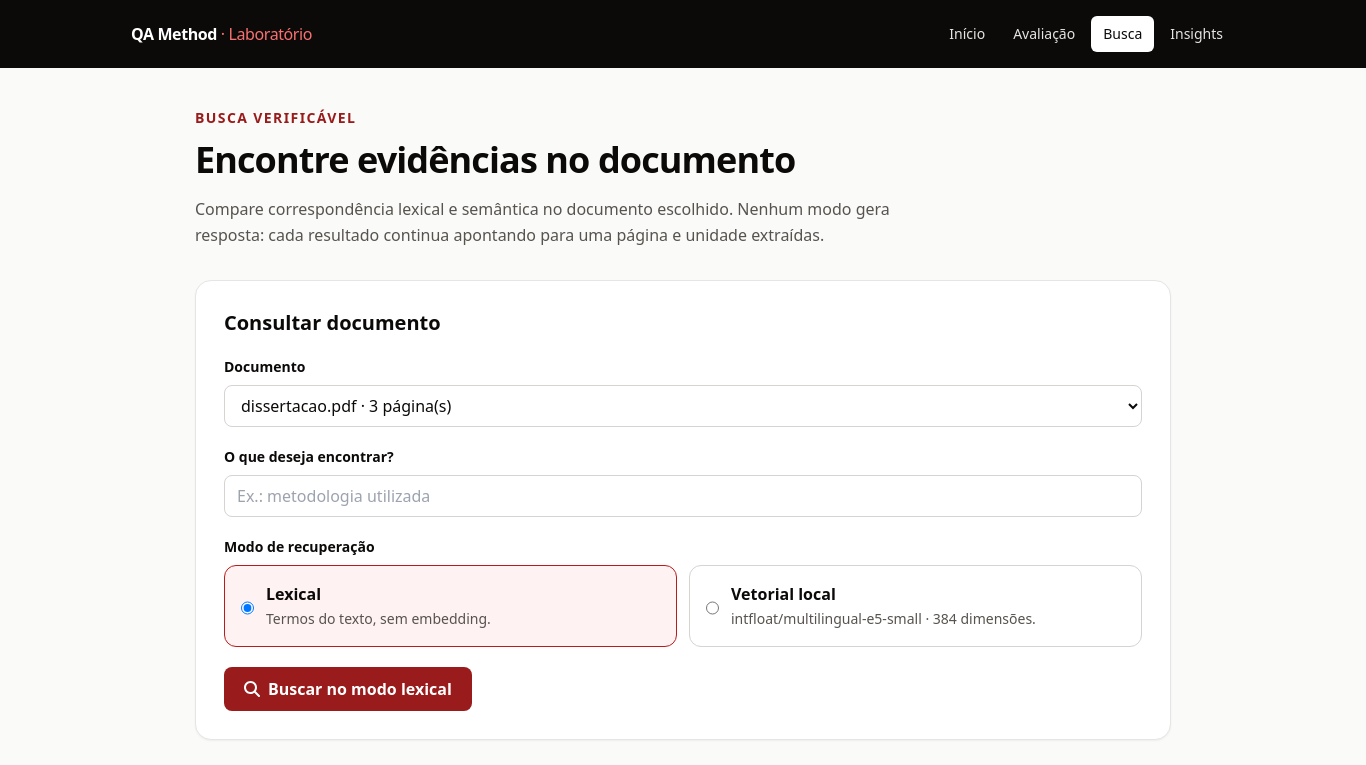
Scenario: Search › mantém resultados lexical e vetorial para comparação
The image size is (1366, 765).
Type "abordagem interpretativa" into the search field labelled "O que deseja encontrar?" at [683, 496], box x1=224 y1=475 x2=1142 y2=517
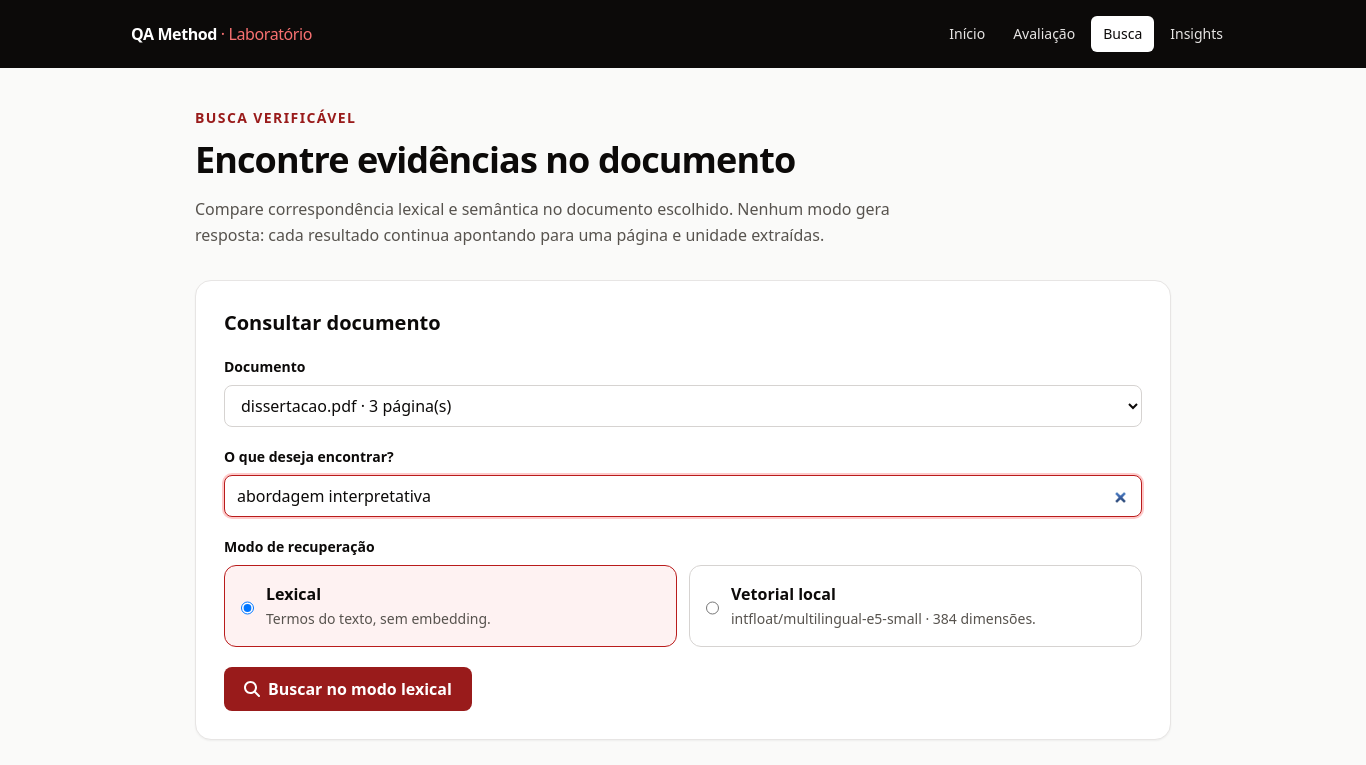
Click the button "Buscar no modo lexical" at [348, 689], box x1=224 y1=667 x2=472 y2=711
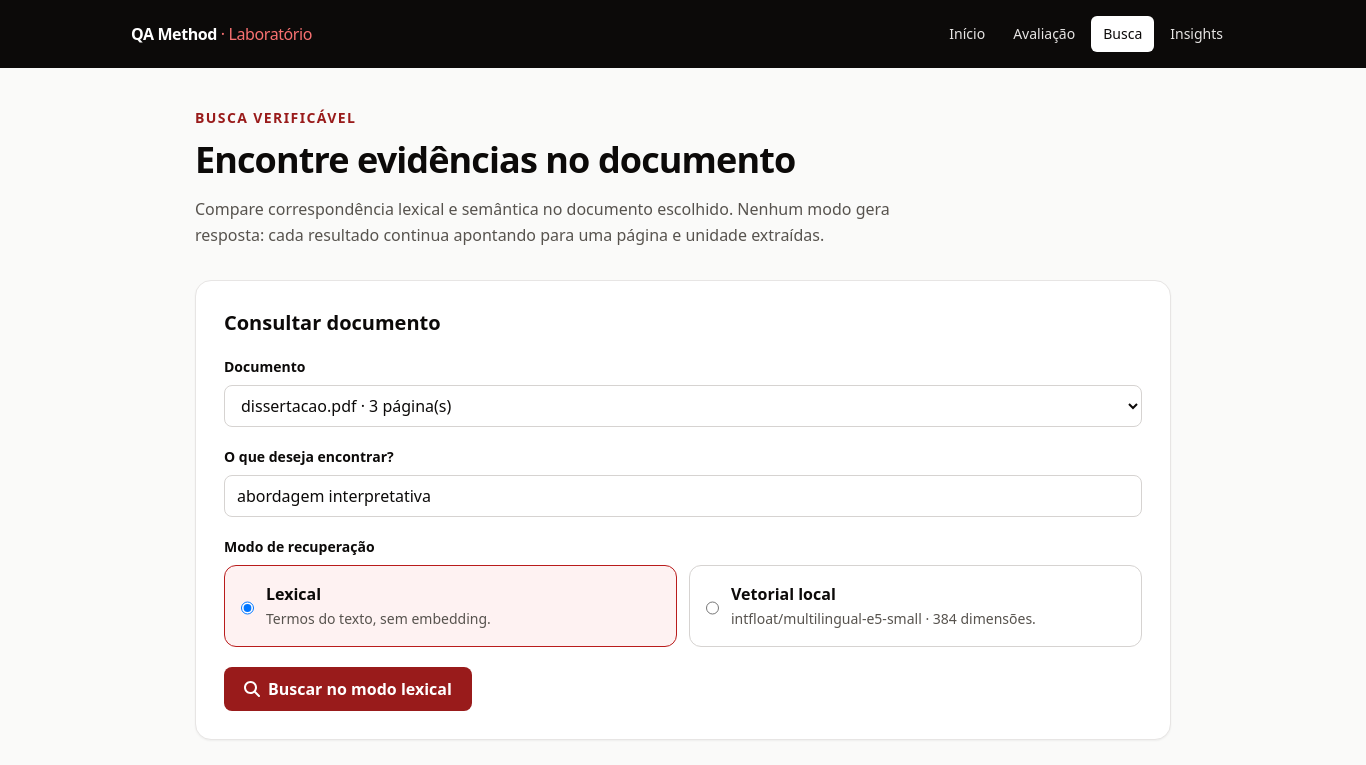
Click the radio button labelled "Vetorial local" at [712, 608], box x1=706 y1=586 x2=719 y2=630
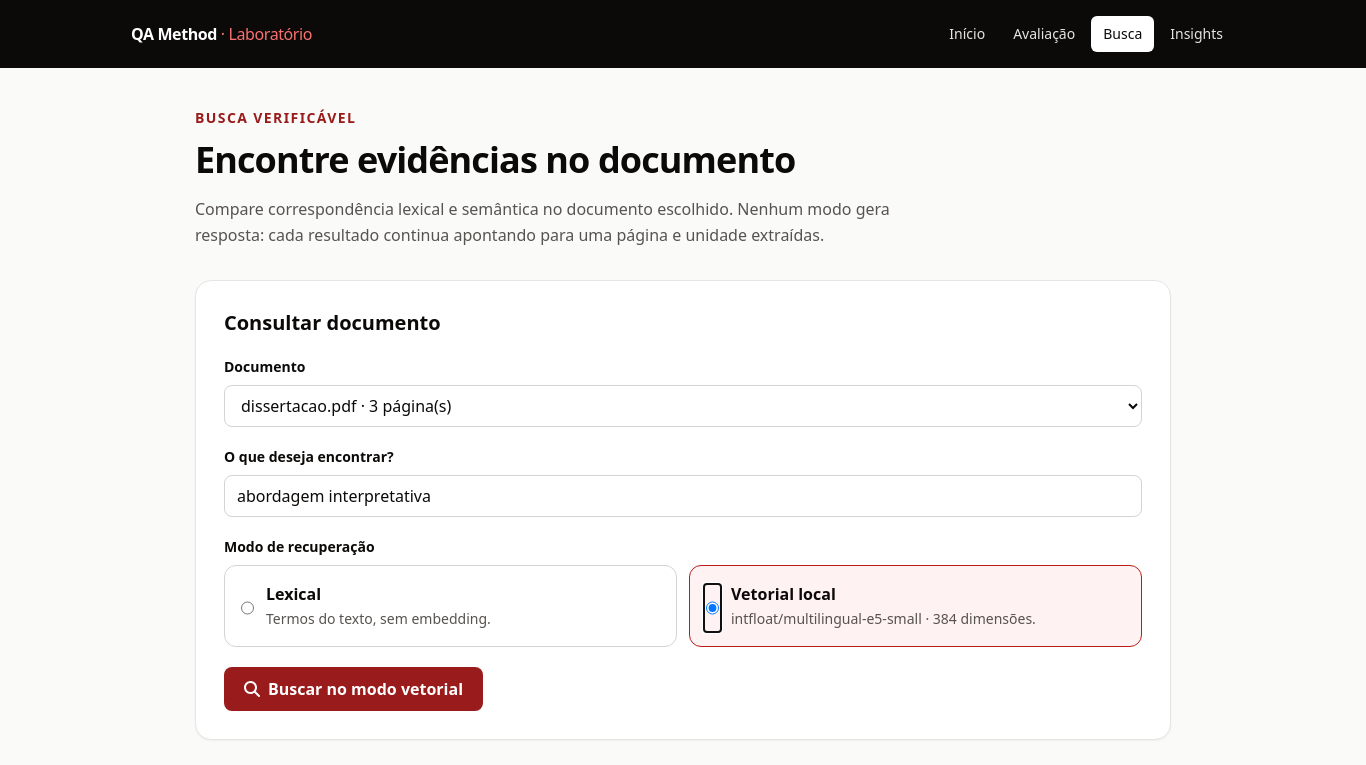
Click the button "Buscar no modo vetorial" at [354, 689], box x1=224 y1=667 x2=483 y2=711
(page scrolled)
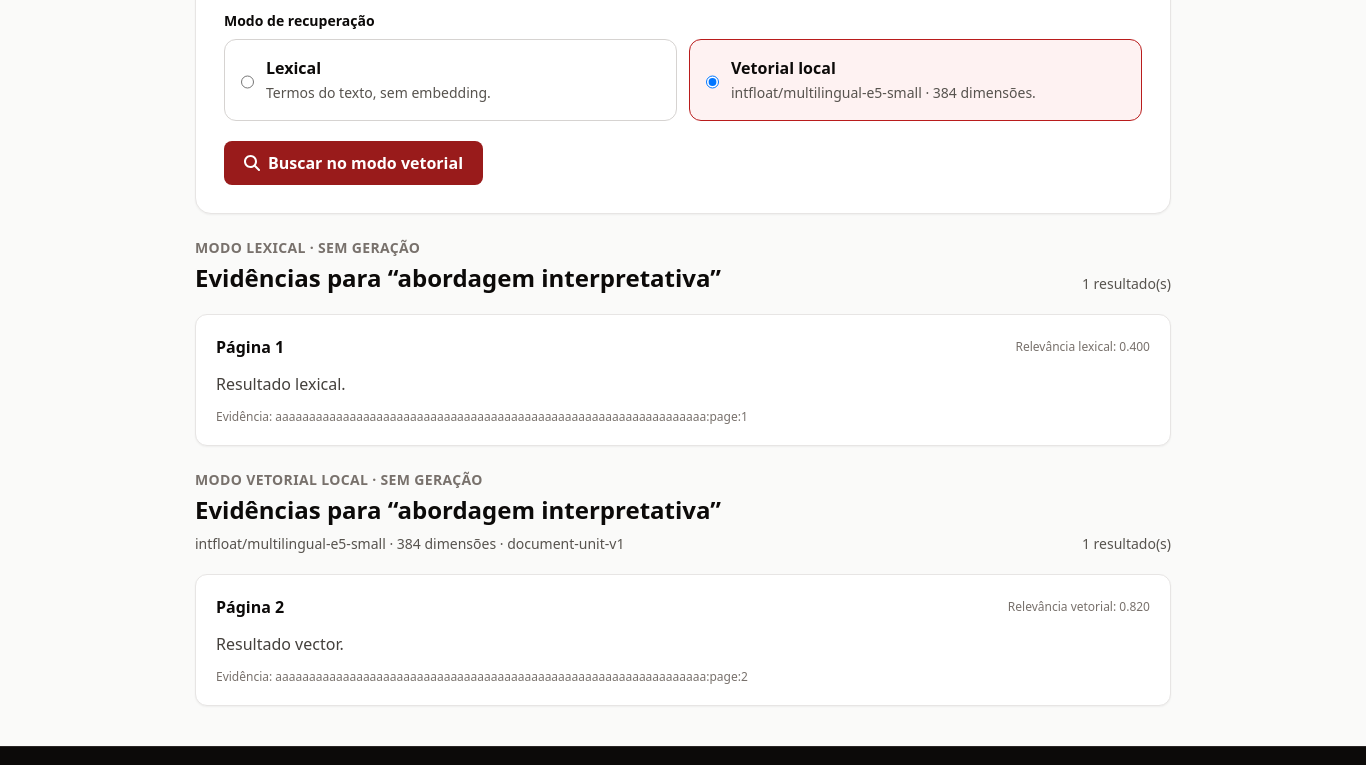
Expected: the text "intfloat/multilingual-e5-small · 384 dimensões." is shown 2 times, x1=731 y1=83 x2=1036 y2=102; x1=195 y1=534 x2=624 y2=553
Result: the text "Resultado lexical." is shown at x1=216 y1=373 x2=346 y2=395
Result: the text "Resultado vector." is shown at x1=216 y1=633 x2=344 y2=655
